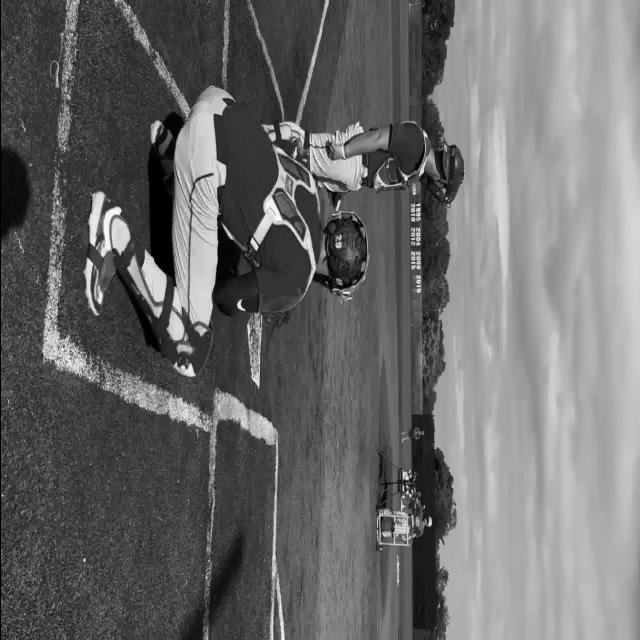shoe: (82, 191, 120, 316), (150, 120, 174, 180)
